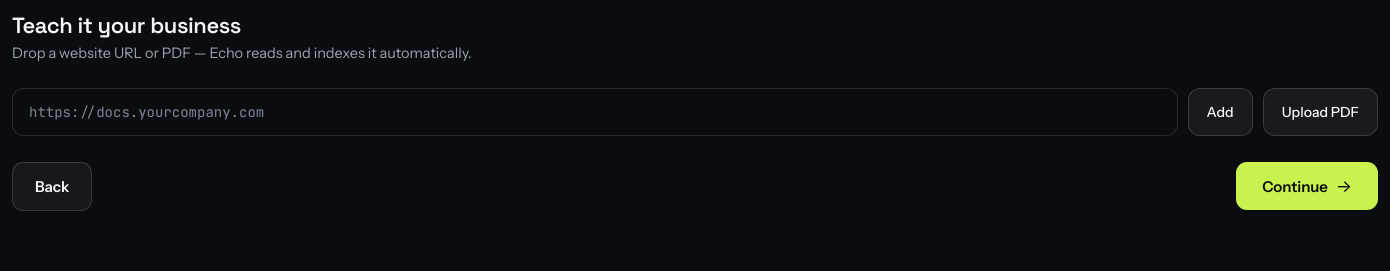
Test: StepTeach - plan source cap › says so when the cap is already used by a source on any agent
Type "docs.teeckbox.com" into the field with placeholder "https://docs.yourcompany.com" at (595, 112), box top-left (12, 88), bottom-right (1178, 136)
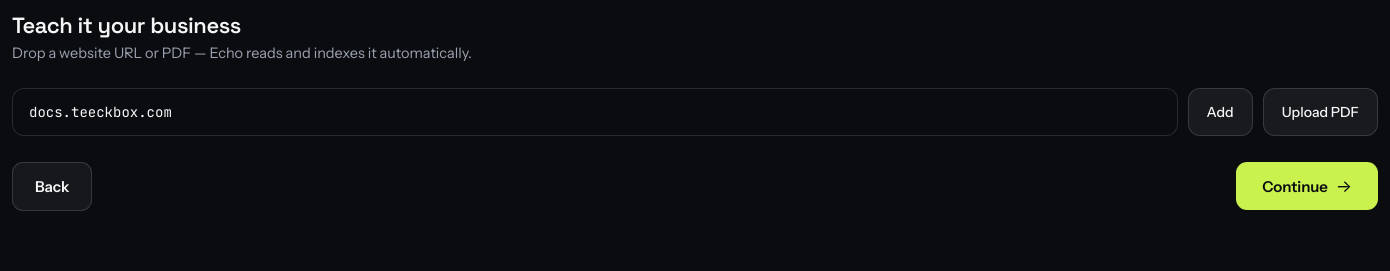
Click the button "Add" at (1220, 112), box top-left (1188, 88), bottom-right (1253, 136)
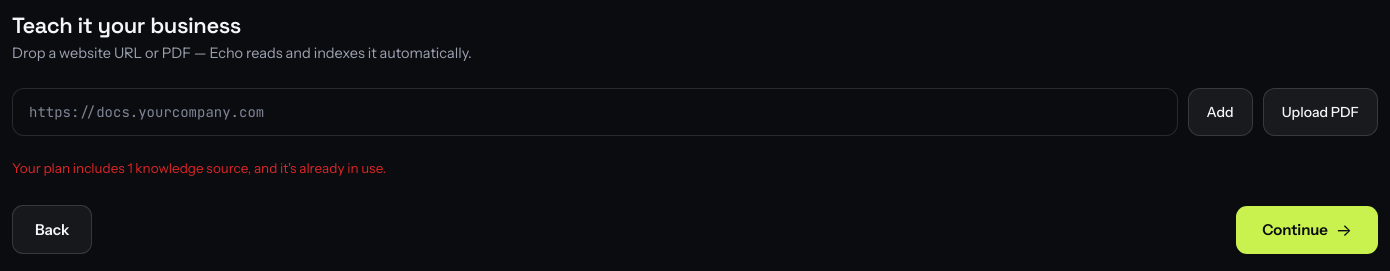
Result: the message with class "step-error" shows "already in use" at top-left (12, 160), bottom-right (386, 176)
